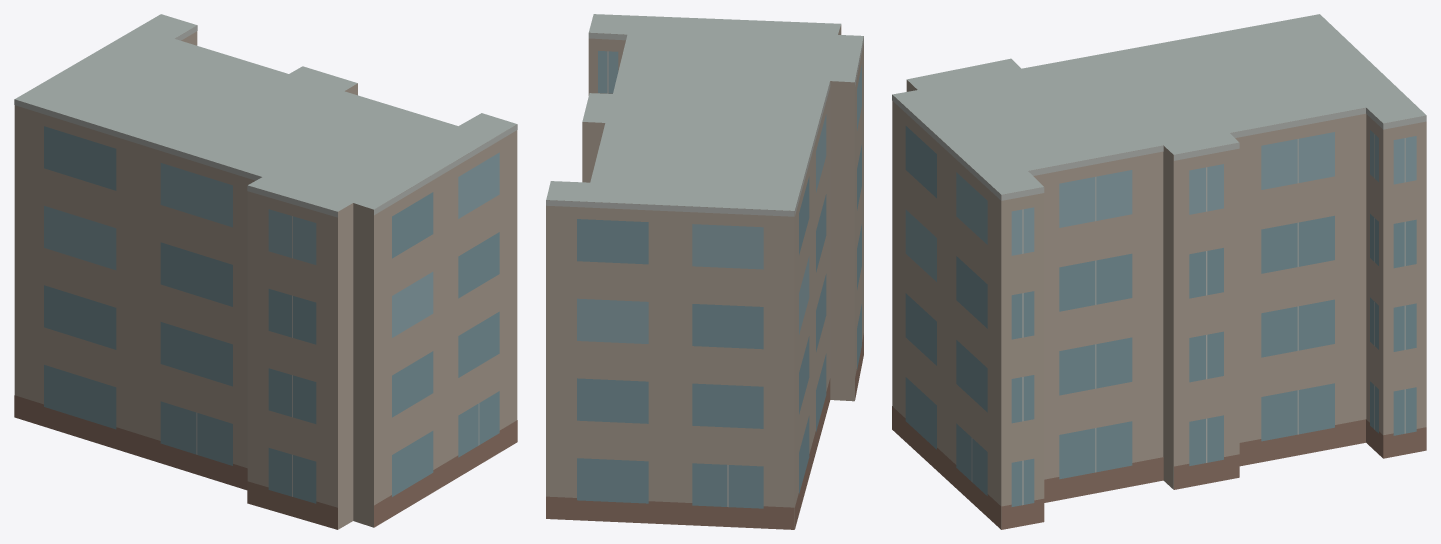
File: survey-upis-32698357.glb
The picture shows the model from 3 angles, left to right: view 1: azimuth 30°, elevation 25°; view 2: azimuth 150°, elevation 25°; view 3: azimuth 270°, elevation 25°; orthographic projection. The views are drawn at different scales.
Parts seen in each view (by area): view 1: survey-upis-32698357.tmp; view 2: survey-upis-32698357.tmp; view 3: survey-upis-32698357.tmp.
Boxes of the visible parts, left/top/right/bottom form: survey-upis-32698357.tmp: left=14, top=14, right=517, bottom=529; survey-upis-32698357.tmp: left=546, top=14, right=863, bottom=529; survey-upis-32698357.tmp: left=892, top=14, right=1426, bottom=529.
Bounding box in the file's own units: 15.51 × 13.4 × 19.38.
